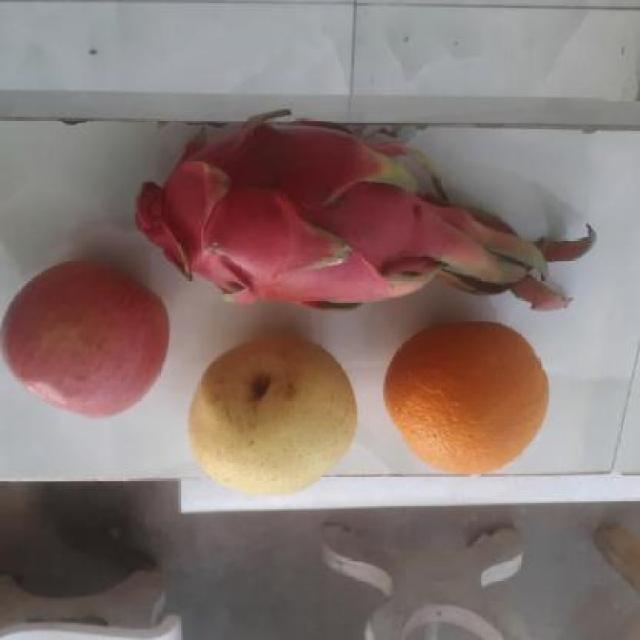apple: (0, 264, 169, 422)
dragon fruit: (110, 122, 448, 313)
oren: (376, 320, 556, 478)
pear: (180, 335, 362, 494)
